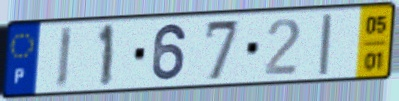1: (94, 22, 116, 90)
2: (262, 16, 303, 77)
6: (151, 22, 190, 84)
7: (202, 19, 242, 82)
I: (54, 24, 75, 91), (316, 11, 335, 78)
